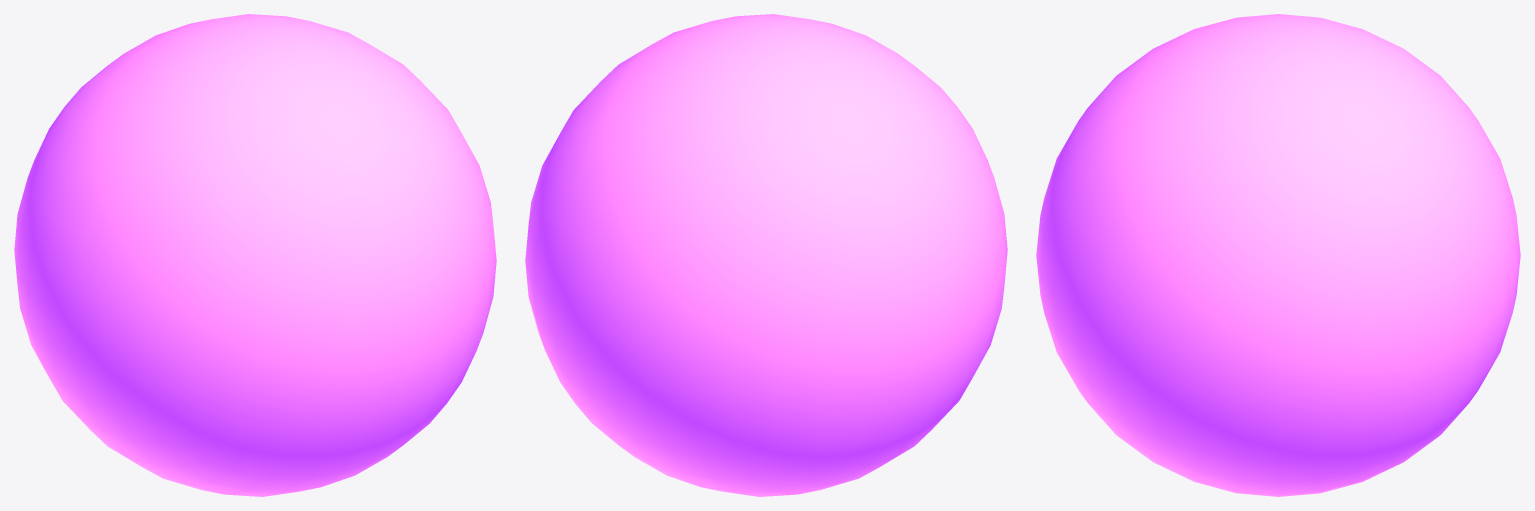
File: planet_002.fbx
3 renders of one model, left to right at view 1: azimuth 30°, elevation 25°; view 2: azimuth 150°, elevation 25°; view 3: azimuth 270°, elevation 25°, orthographic.
Visible parts, largest first — view 1: planet_002; view 2: planet_002; view 3: planet_002.
Boxes of the visible parts, box(x1,y1,x2,y2) form: planet_002: box(14, 14, 496, 496); planet_002: box(525, 14, 1007, 496); planet_002: box(1036, 14, 1520, 496).
Size of the model in its own units: 2250 by 2250 by 2250.
